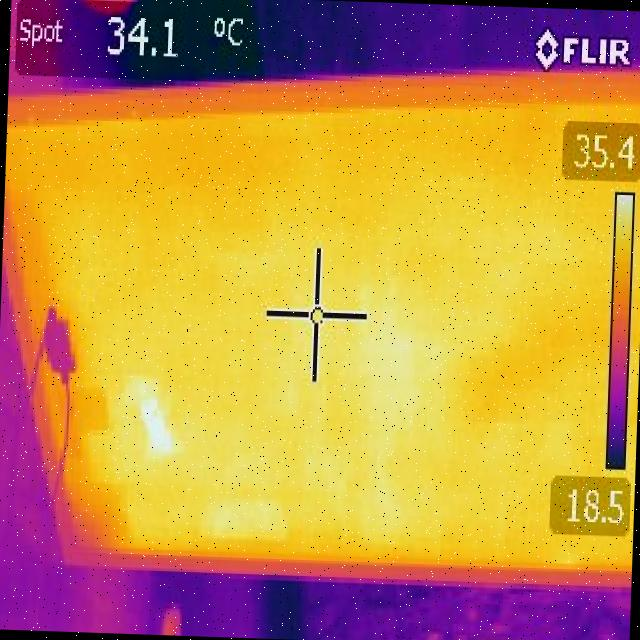Hotspot: (137, 399, 177, 459)
